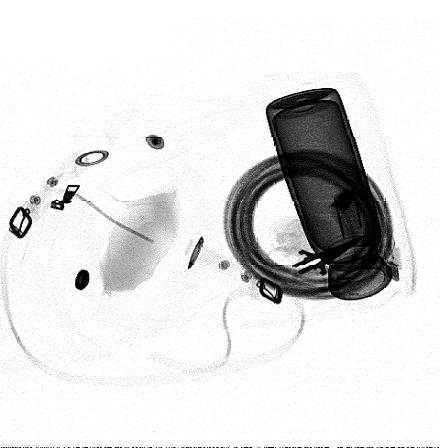Scissors: (266, 233, 369, 303)
